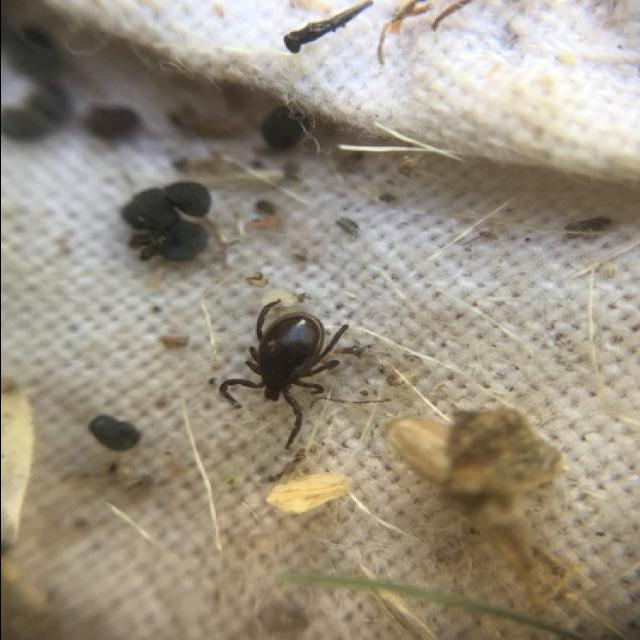Ixodes Ricinus-M: (217, 300, 345, 448)
